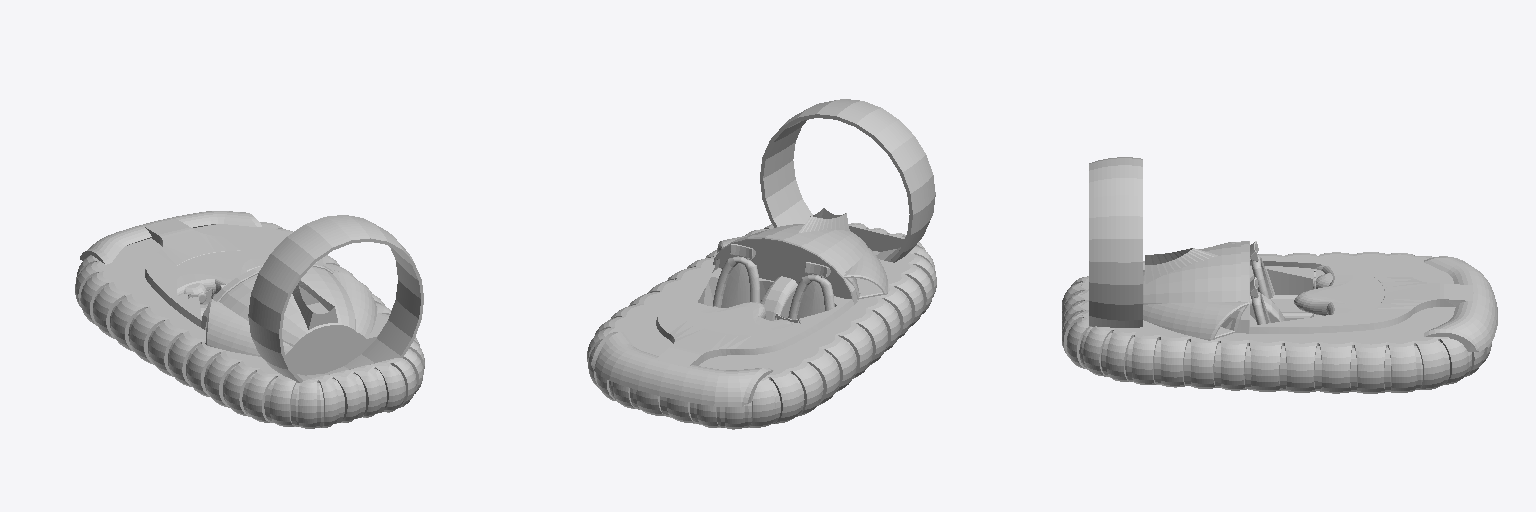
The model's file is main.obj.
3 views of the same model, side by side, from view 1: azimuth 30°, elevation 25°; view 2: azimuth 150°, elevation 25°; view 3: azimuth 270°, elevation 25° (orthographic).
Size of the model in its own units: 29.29 by 22.52 by 49.05.